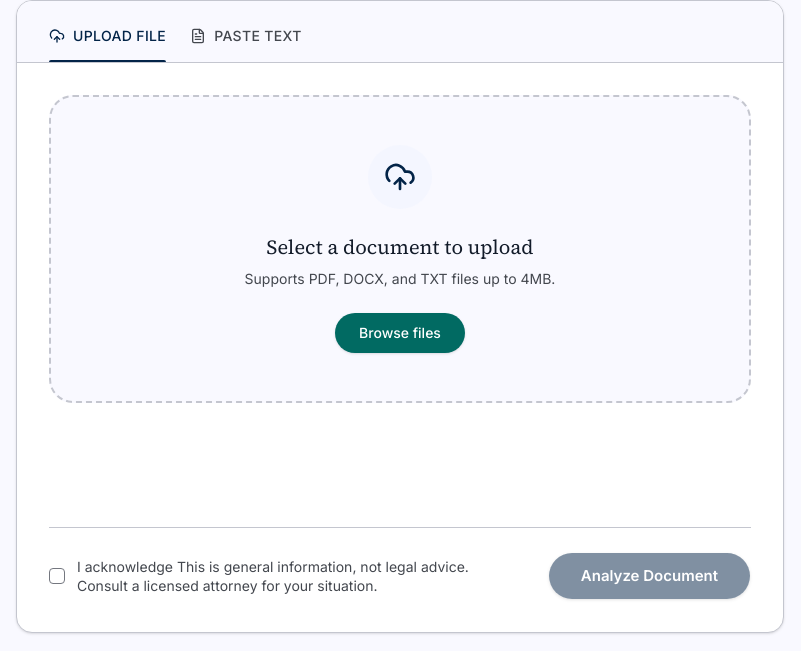
Scenario: DocumentInput renders correctly and allows switching tabs
Check: the button "Upload file" is shown, box x1=49 y1=25 x2=166 y2=62
# Switch to paste tab
Click the button "Paste text": (246, 44) x1=190 y1=25 x2=302 y2=62
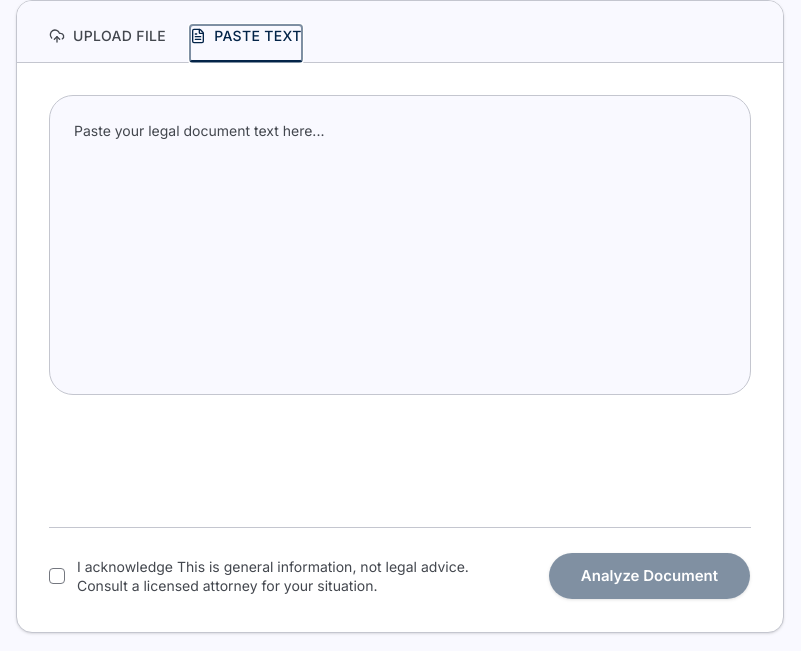
Check: the checkbox is shown, box x1=49 y1=568 x2=65 y2=584
Check: the text box with placeholder "Paste your legal document text here..." is shown, box x1=49 y1=95 x2=751 y2=395
